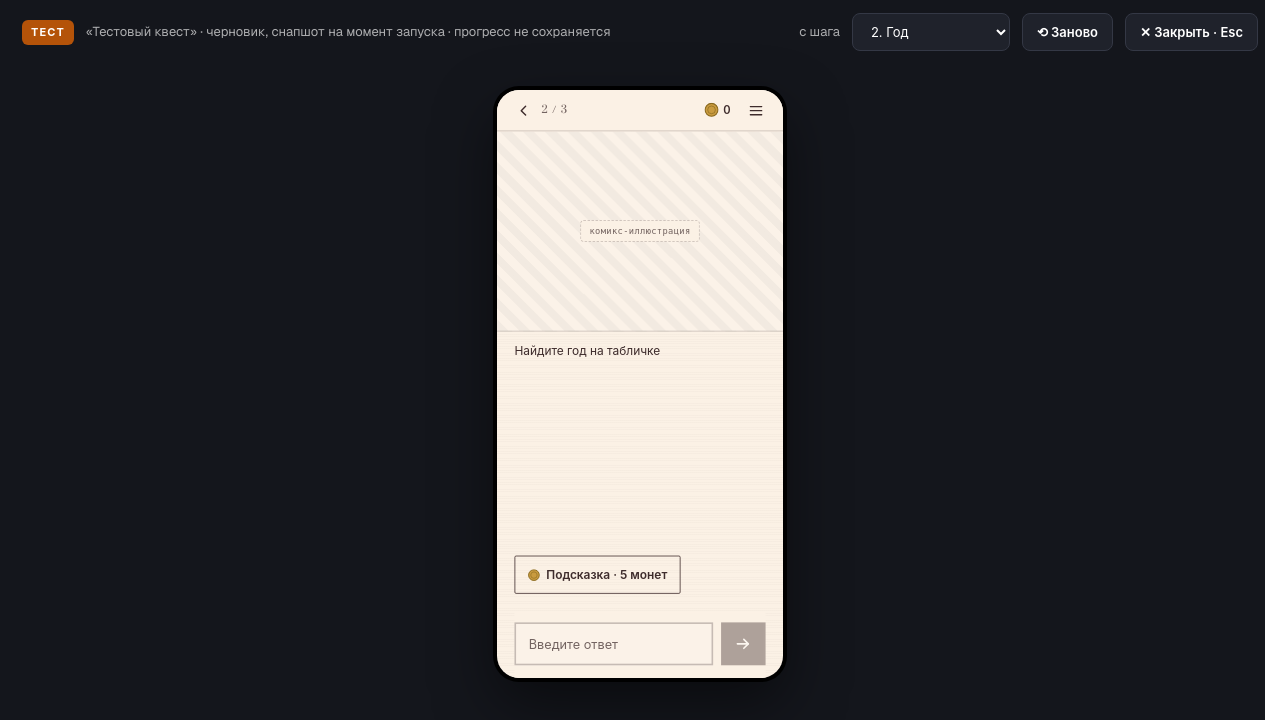
конструкторский тест-игрок: подсказка › после покупки попап показывает подсказку бесплатно — продавать её снова нечего
Click the button "Подсказка · 5 монет". click: (598, 575)
box: [514,556,681,594]
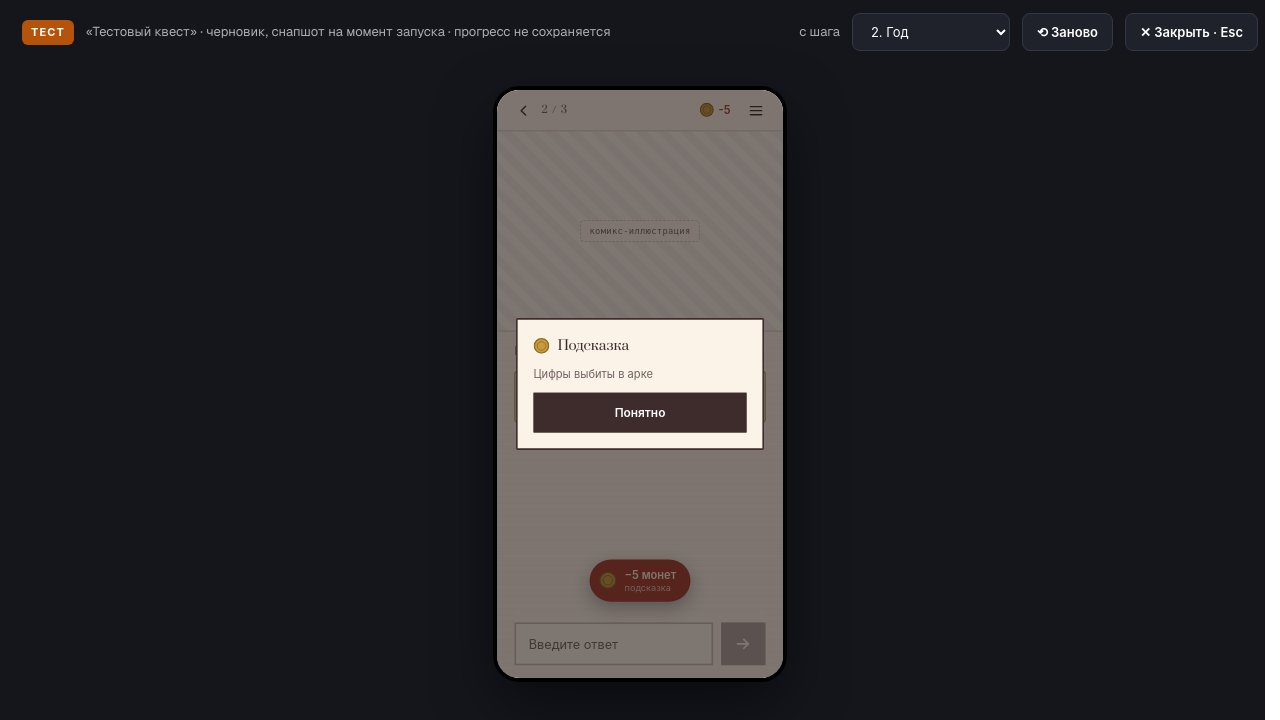
Click the button "Понятно". click: (640, 413)
box: [534,393,746,433]
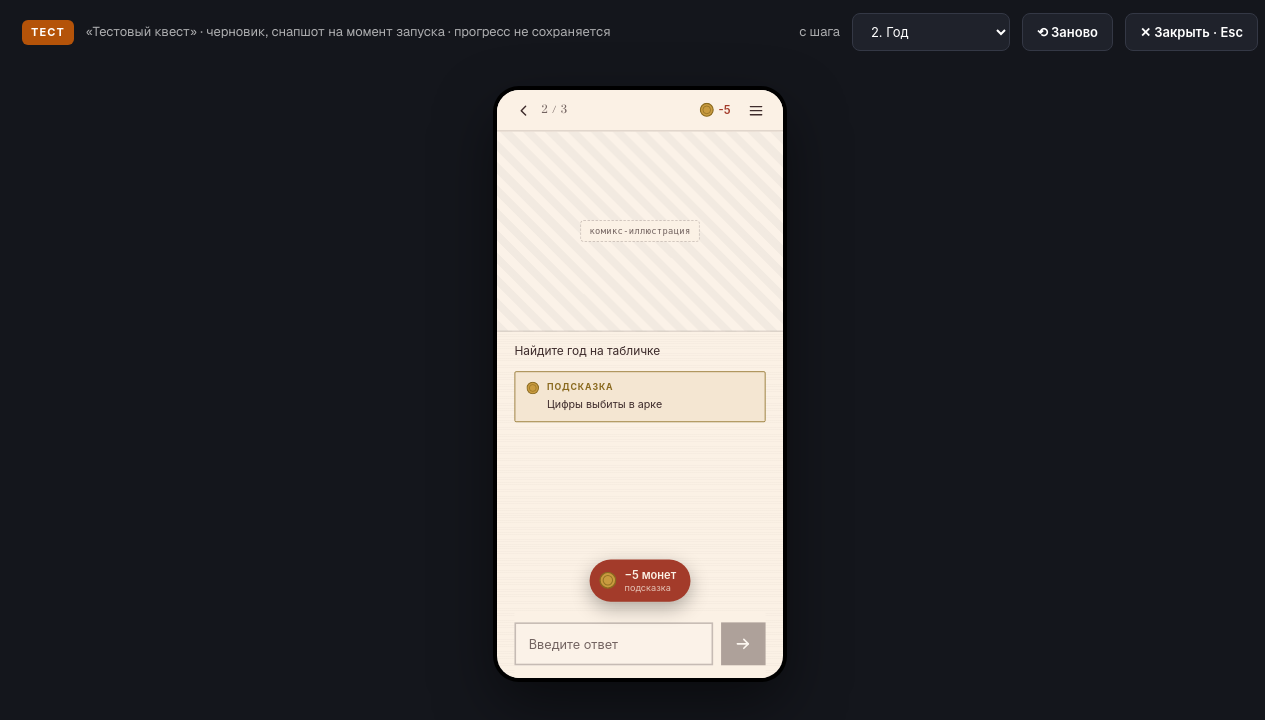
Type "1700" into the field with placeholder "Введите ответ". click: (614, 644)
box: [514,622,713,665]
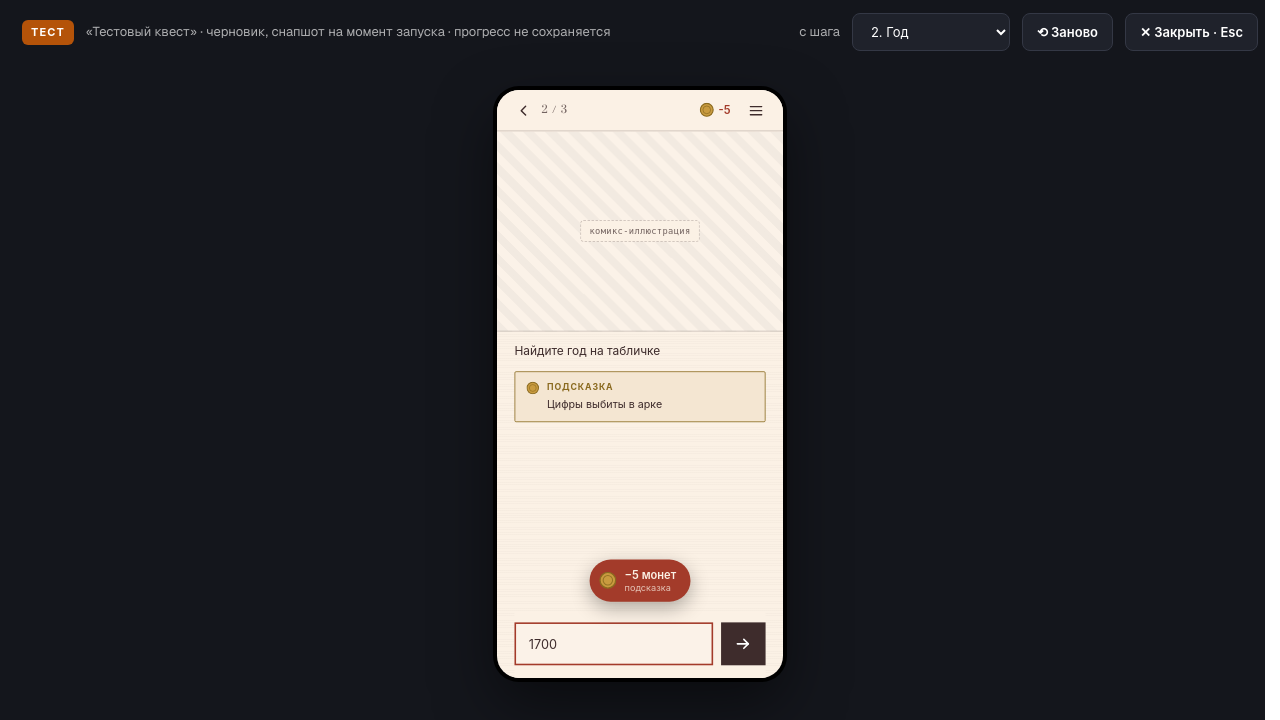
Click the button named "Ответить". click: (743, 644)
box: [721,622,766,665]
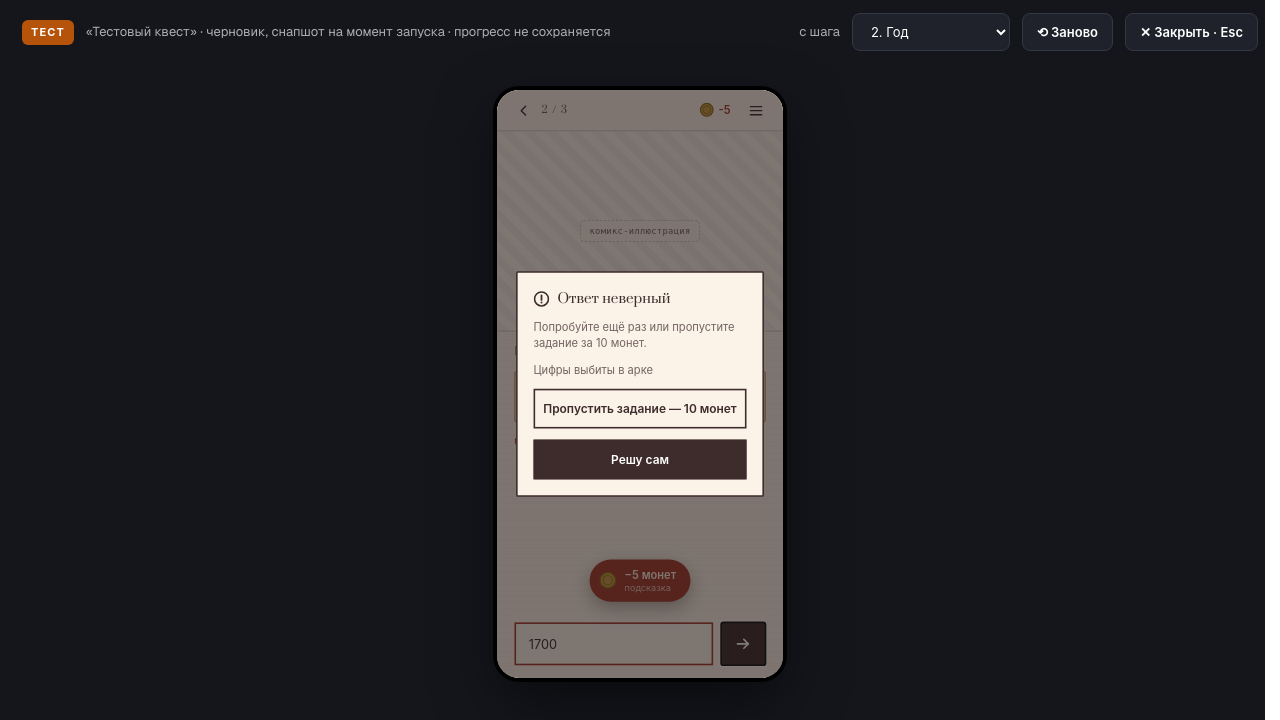
Check: the text "Ответ неверный" shows "Цифры выбиты в арке", box [534,363,653,376]
